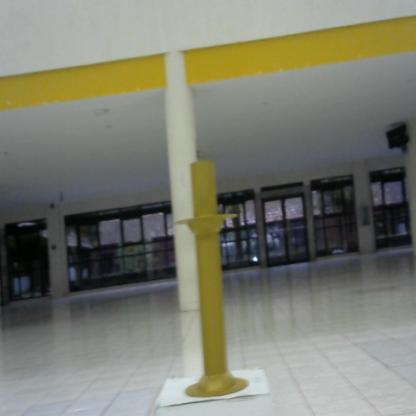pole: (175, 150, 257, 405)
